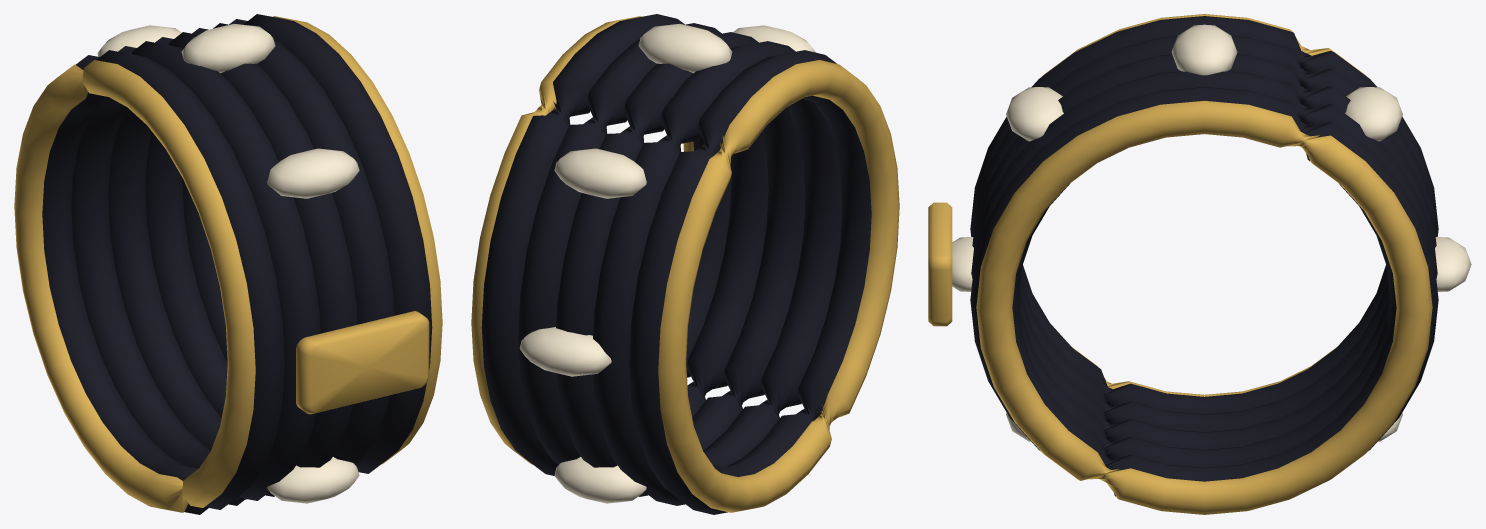
Rendered from prime_cuff.glb.
3 views of the same model, side by side, from view 1: azimuth 30°, elevation 25°; view 2: azimuth 150°, elevation 25°; view 3: azimuth 270°, elevation 25° (orthographic).
Parts seen in each view (by area): view 1: prime_cuff_dark, prime_cuff_metal, prime_cuff_accent, prime_cuff_gem; view 2: prime_cuff_dark, prime_cuff_metal, prime_cuff_accent; view 3: prime_cuff_dark, prime_cuff_metal, prime_cuff_accent, prime_cuff_gem.
Boxes of the visible parts, x1=… form: prime_cuff_dark: x1=42, y1=14, x2=432, y2=514; prime_cuff_metal: x1=14, y1=16, x2=442, y2=512; prime_cuff_accent: x1=97, y1=23, x2=359, y2=503; prime_cuff_gem: x1=296, y1=311, x2=429, y2=414; prime_cuff_dark: x1=481, y1=14, x2=871, y2=514; prime_cuff_metal: x1=471, y1=16, x2=899, y2=512; prime_cuff_accent: x1=519, y1=23, x2=815, y2=503; prime_cuff_dark: x1=970, y1=16, x2=1438, y2=496; prime_cuff_metal: x1=976, y1=14, x2=1432, y2=514; prime_cuff_accent: x1=952, y1=24, x2=1471, y2=441; prime_cuff_gem: x1=928, y1=202, x2=952, y2=326.
Bounding box in the file's own units: 0.04 × 0.085 × 0.0905.
